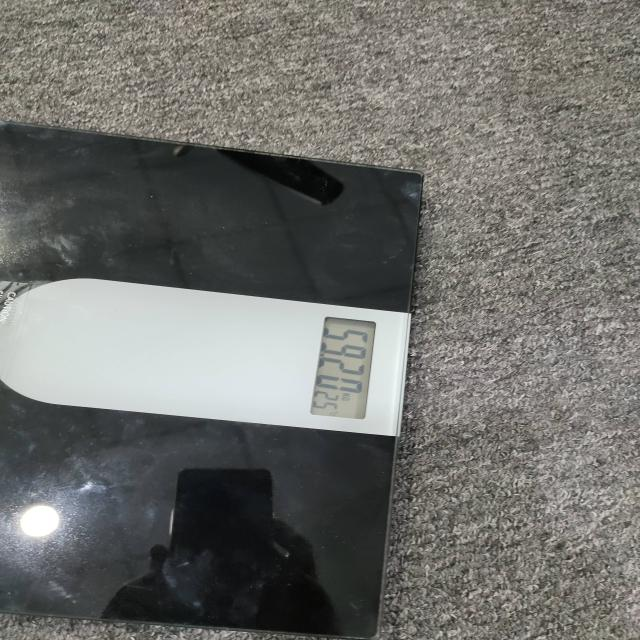ws: (0, 121, 423, 640)
